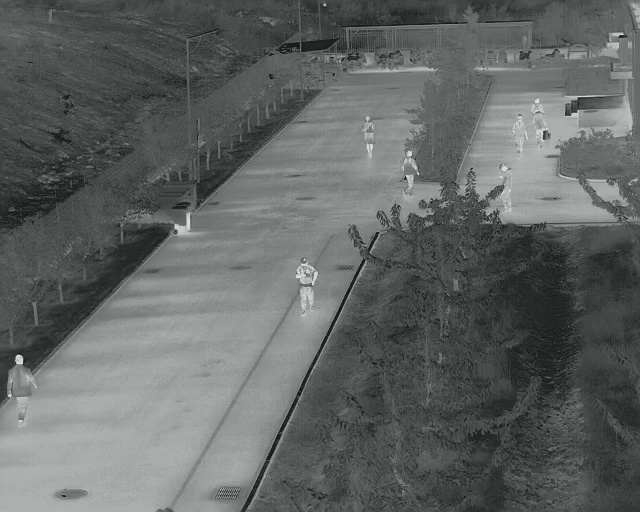person: (6, 353, 37, 424), (295, 257, 318, 317), (531, 97, 550, 148), (401, 149, 419, 199), (497, 162, 513, 212), (510, 112, 528, 156), (360, 115, 376, 158)
